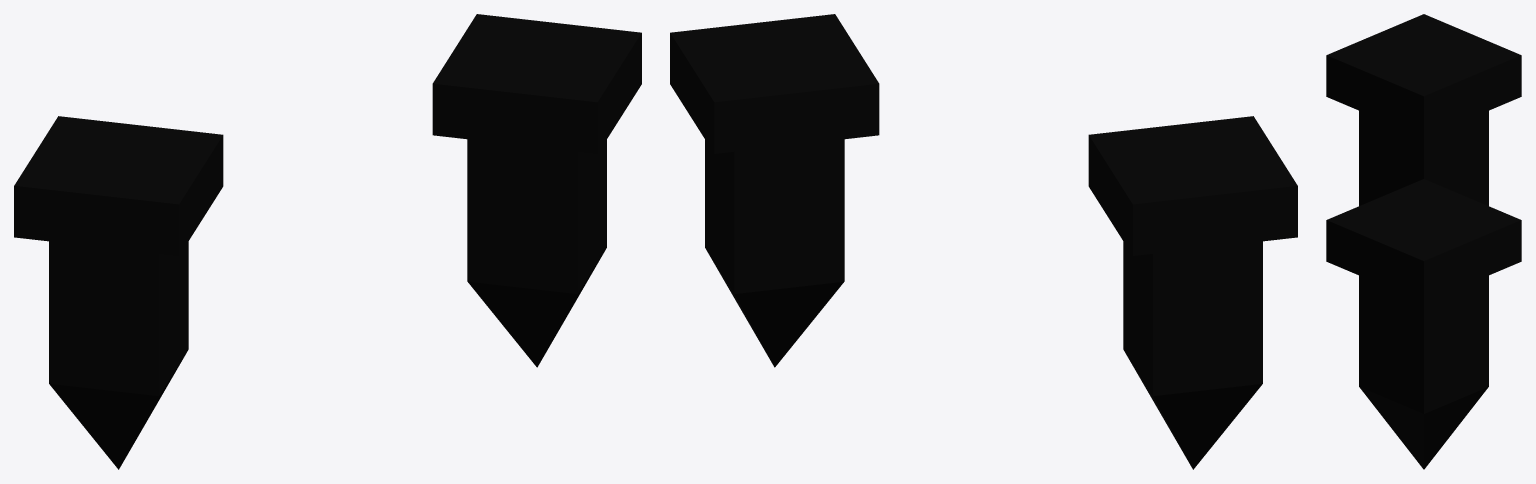
The model's file is manaweaving_altar_pedestal03.obj.
3 views of the same model, side by side, from view 1: azimuth 30°, elevation 25°; view 2: azimuth 150°, elevation 25°; view 3: azimuth 270°, elevation 25° (orthographic). The views are drawn at different scales.
Parts seen in each view (by area): view 1: SHAPE_PEDISTAL_HIGH_Cube.018; view 2: SHAPE_PEDISTAL_HIGH_Cube.018; view 3: SHAPE_PEDISTAL_HIGH_Cube.018.
Boxes of the visible parts, x1,y1,x2,y2 form: SHAPE_PEDISTAL_HIGH_Cube.018: [14, 14, 641, 469]; SHAPE_PEDISTAL_HIGH_Cube.018: [670, 14, 1297, 469]; SHAPE_PEDISTAL_HIGH_Cube.018: [1326, 14, 1521, 469].
Size of the model in its own units: 0.7955 by 0.375 by 0.2652.
